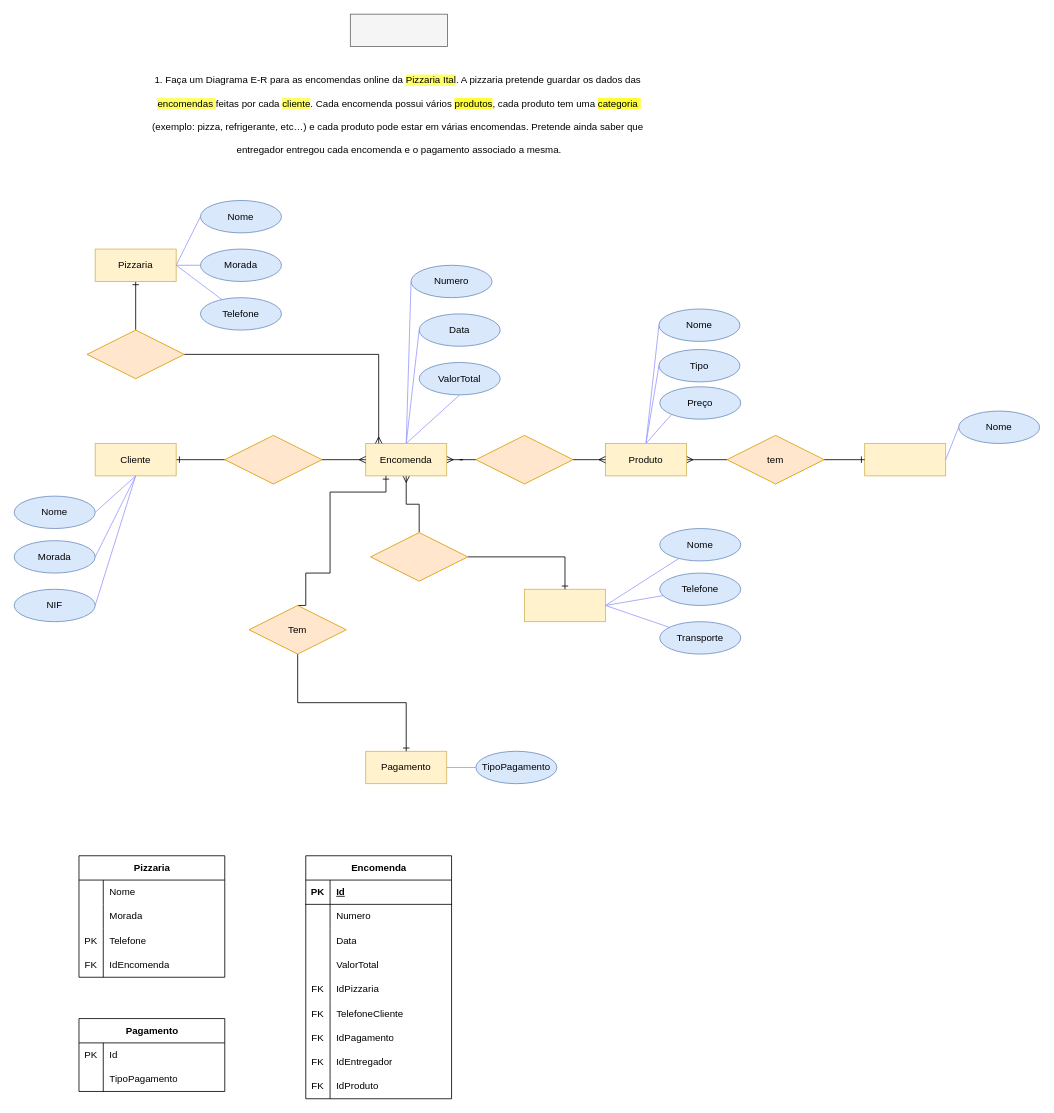
This 1054x1113 diagram has some shape labels left out. The centre of each missing label's shape, as x and y in pixels:
Categoria: (x=905, y=459)
Contem: (x=419, y=556)
Contém: (x=135, y=354)
Entregador: (x=564, y=605)
Exercício 1: (x=399, y=30)
Faz: (x=273, y=459)
Possui: (x=524, y=459)
